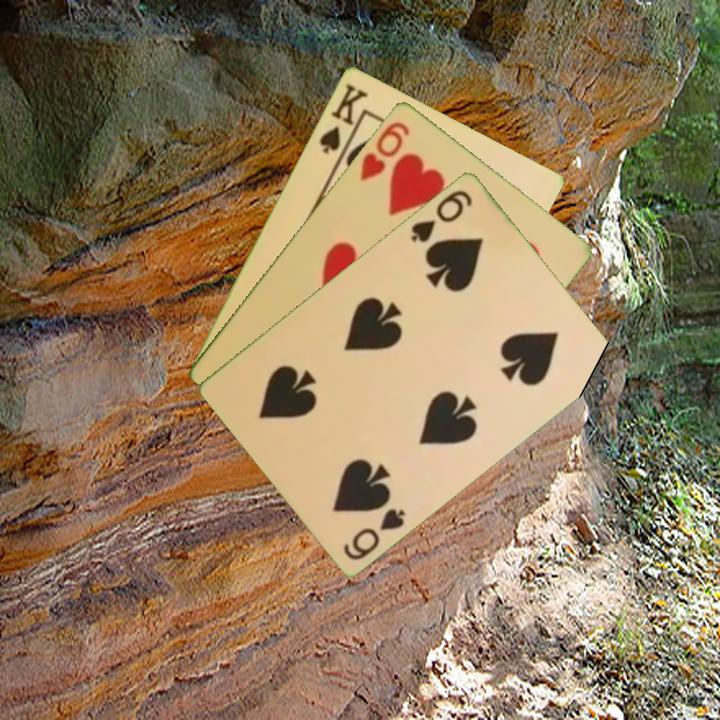6h: (356, 117, 413, 184)
6s: (407, 185, 476, 245), (339, 504, 409, 563)
Ks: (315, 79, 371, 156)
